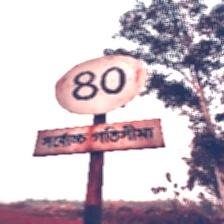Speed-limit: (35, 54, 161, 158)
